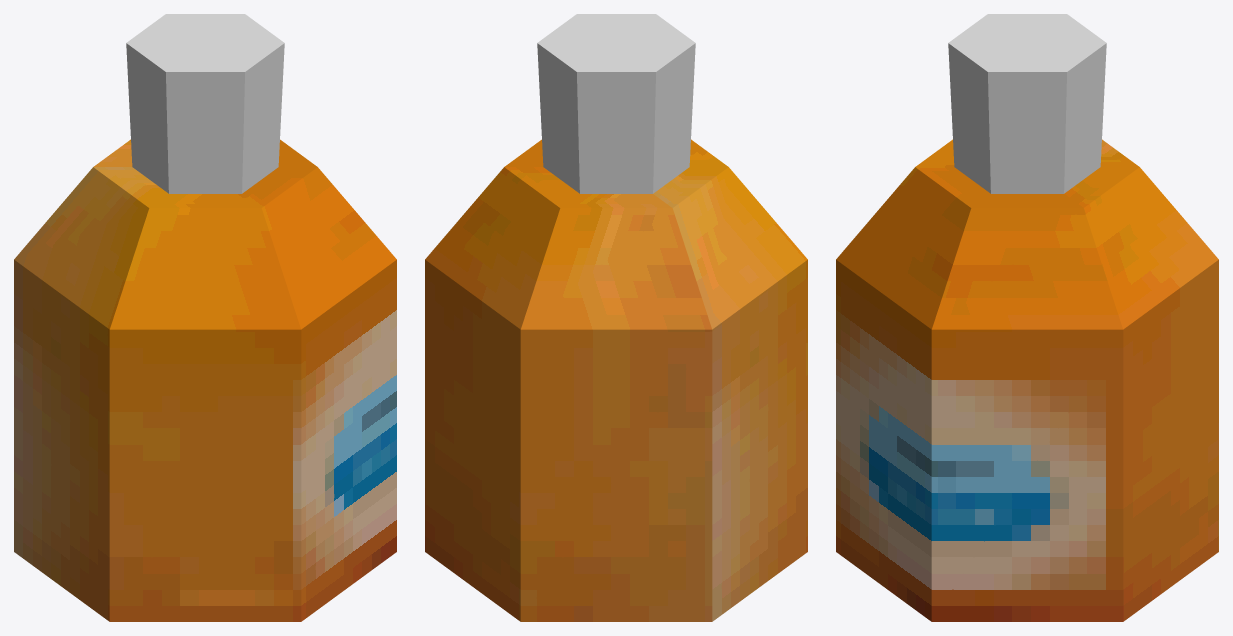
Rendered from product3.glb.
The picture shows the model from 3 angles, left to right: view 1: azimuth 30°, elevation 25°; view 2: azimuth 150°, elevation 25°; view 3: azimuth 270°, elevation 25°; orthographic projection.
Visible parts, largest first — view 1: product3; view 2: product3; view 3: product3.
Part boxes in pixels (box(x1,y1,x2,y2)): product3: box(14, 14, 396, 621); product3: box(425, 14, 807, 621); product3: box(836, 14, 1218, 621).
Size of the model in its own units: 0.1425 by 0.2413 by 0.1646.
Materials: 1 (1 with a texture image).
